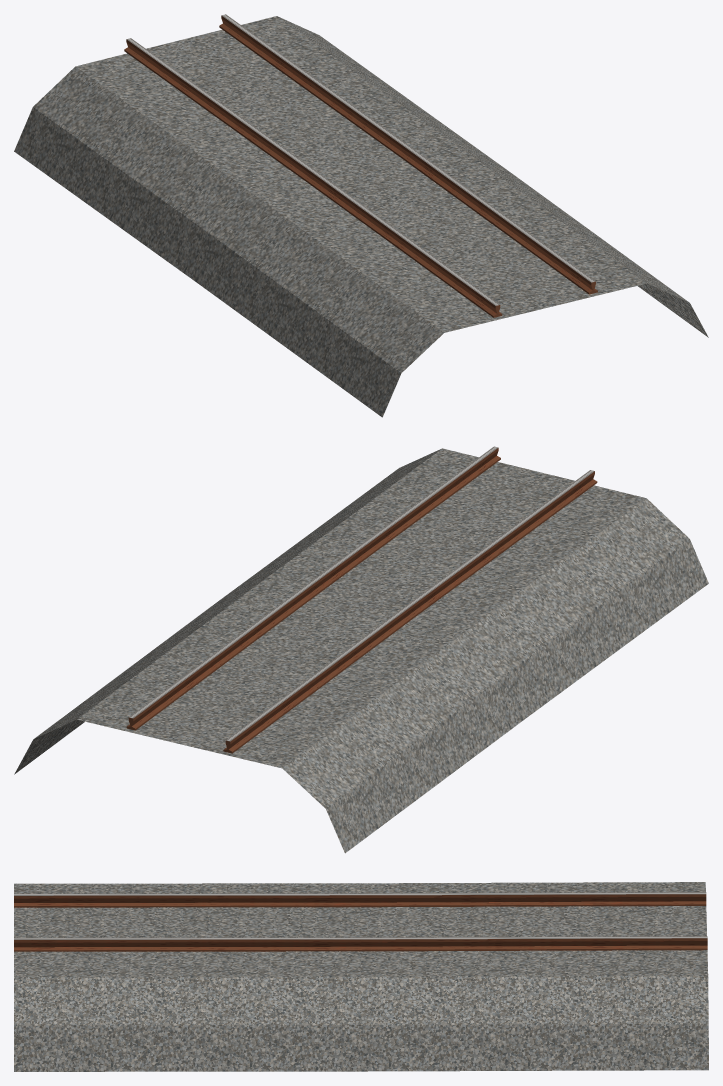
File: rail_track_curve_r875_10m_l_v2_bed.glb
3 renders of one model, top to bottom at view 1: azimuth 30°, elevation 25°; view 2: azimuth 150°, elevation 25°; view 3: azimuth 270°, elevation 25°, orthographic. The views are drawn at different scales.
Visible parts, largest first — view 1: rail_track_curve_r875_10m_l_v2_bed; view 2: rail_track_curve_r875_10m_l_v2_bed; view 3: rail_track_curve_r875_10m_l_v2_bed.
Part boxes in pixels (left/top/right/bottom): rail_track_curve_r875_10m_l_v2_bed: left=14, top=14, right=708, bottom=417; rail_track_curve_r875_10m_l_v2_bed: left=14, top=446, right=708, bottom=853; rail_track_curve_r875_10m_l_v2_bed: left=14, top=882, right=708, bottom=1071.
Size of what is drawn, in the model's own units: 5.21 by 1.27 by 10.03.
2 materials, 2 textured.
